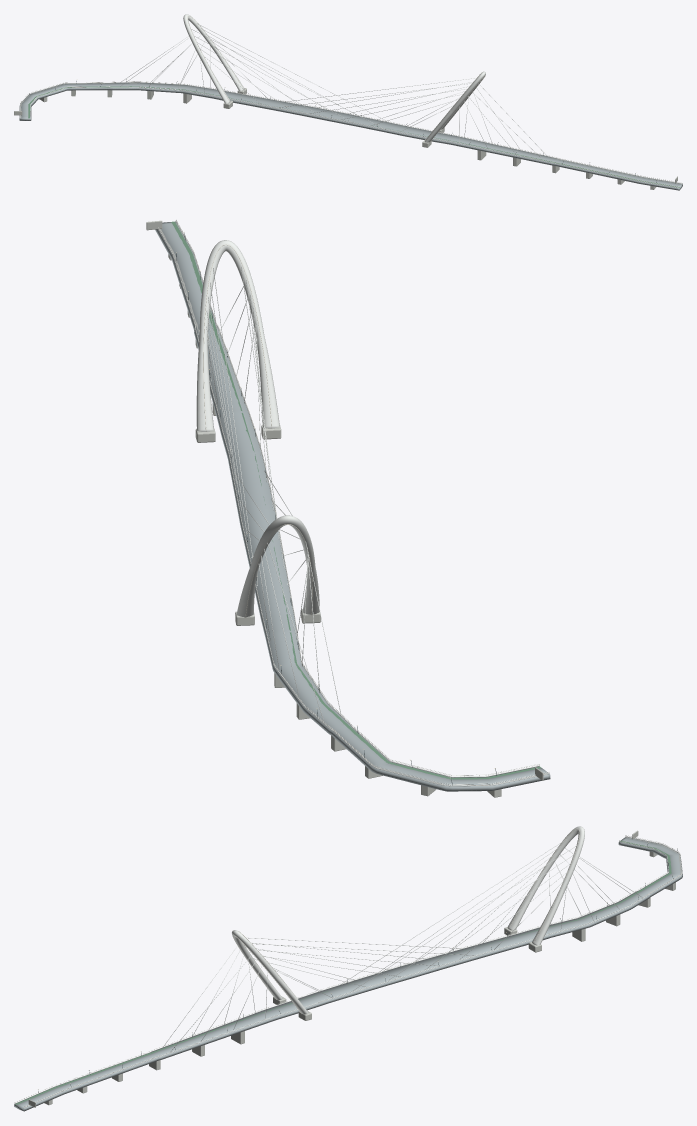
The model's file is nanjing-eye-lod2.glb.
3 views of the same model, one above another, from view 1: azimuth 30°, elevation 25°; view 2: azimuth 150°, elevation 25°; view 3: azimuth 270°, elevation 25° (orthographic). The views are drawn at different scales.
Visible parts, largest first — view 1: Nanjing Eye Steel Box Girder, Nanjing Eye Stay Cables, Nanjing Eye White Painted Steel, Nanjing Eye White Railings, Nanjing Eye Pale Concrete, Nanjing Eye Green Walking Lane, Nanjing Eye Tower Light; view 2: Nanjing Eye Steel Box Girder, Nanjing Eye White Painted Steel, Nanjing Eye Stay Cables, Nanjing Eye White Railings, Nanjing Eye Pale Concrete, Nanjing Eye Green Walking Lane; view 3: Nanjing Eye Steel Box Girder, Nanjing Eye White Painted Steel, Nanjing Eye Stay Cables, Nanjing Eye White Railings, Nanjing Eye Pale Concrete, Nanjing Eye Green Walking Lane, Nanjing Eye Tower Light.
Boxes of the visible parts, bbox=[...] form: Nanjing Eye Steel Box Girder: bbox=[19, 82, 682, 190]; Nanjing Eye Stay Cables: bbox=[120, 23, 547, 159]; Nanjing Eye White Painted Steel: bbox=[20, 14, 682, 187]; Nanjing Eye White Railings: bbox=[20, 81, 681, 187]; Nanjing Eye Pale Concrete: bbox=[14, 88, 677, 189]; Nanjing Eye Green Walking Lane: bbox=[28, 86, 679, 187]; Nanjing Eye Tower Light: bbox=[187, 16, 485, 141]; Nanjing Eye Steel Box Girder: bbox=[155, 221, 550, 791]; Nanjing Eye White Painted Steel: bbox=[158, 221, 549, 786]; Nanjing Eye Stay Cables: bbox=[198, 266, 341, 721]; Nanjing Eye White Railings: bbox=[158, 220, 549, 785]; Nanjing Eye Pale Concrete: bbox=[146, 220, 543, 797]; Nanjing Eye Green Walking Lane: bbox=[171, 221, 541, 779]; Nanjing Eye Steel Box Girder: bbox=[14, 837, 682, 1111]; Nanjing Eye White Painted Steel: bbox=[14, 826, 682, 1107]; Nanjing Eye Stay Cables: bbox=[163, 839, 642, 1051]; Nanjing Eye White Railings: bbox=[14, 835, 682, 1107]; Nanjing Eye Pale Concrete: bbox=[28, 830, 675, 1107]; Nanjing Eye Green Walking Lane: bbox=[15, 840, 671, 1104]; Nanjing Eye Tower Light: bbox=[233, 828, 579, 1013].
Size of the model in its own units: 549 by 104 by 569.
